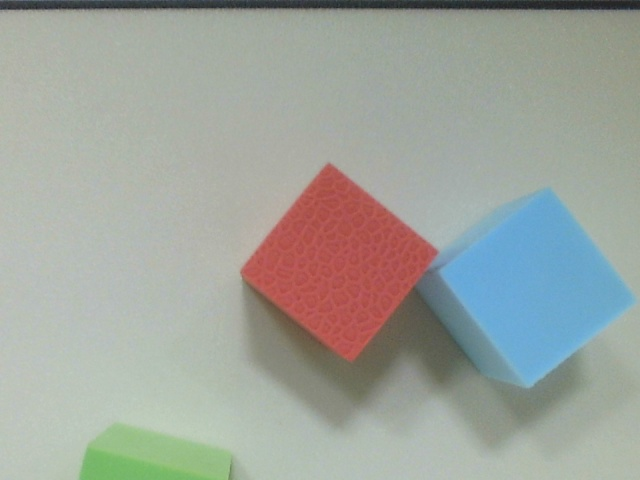greencube: (62, 416, 252, 480)
